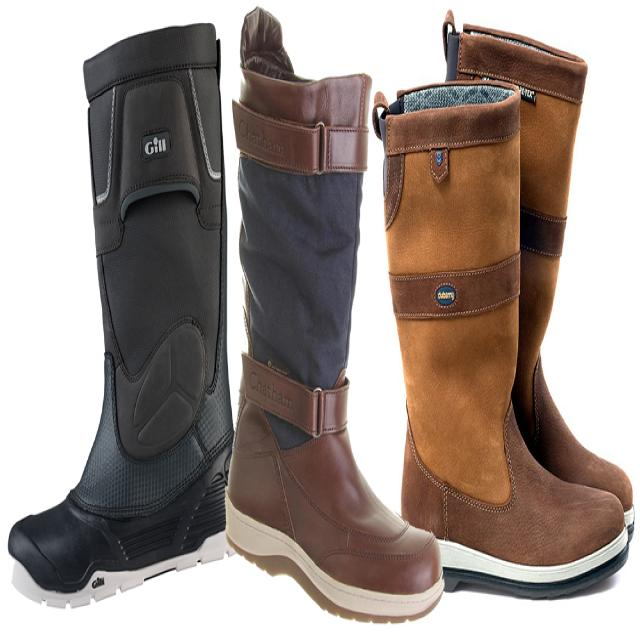boot: (2, 13, 230, 620), (379, 70, 627, 589), (234, 13, 372, 555)
